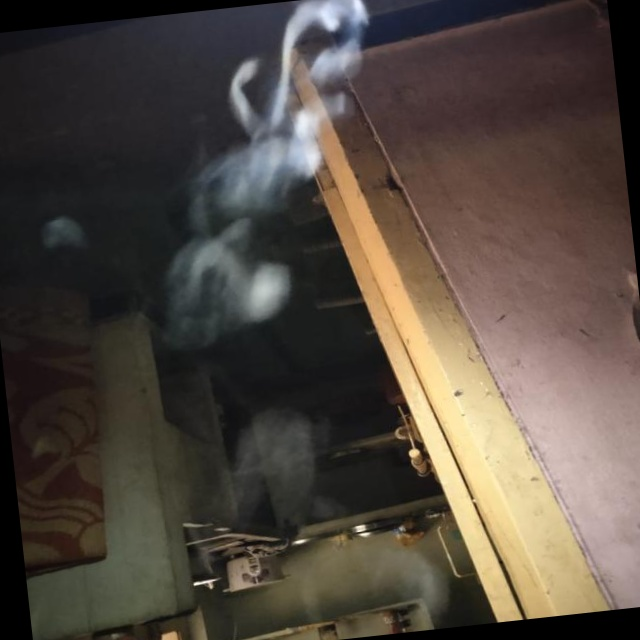smoke: (174, 0, 401, 325)
